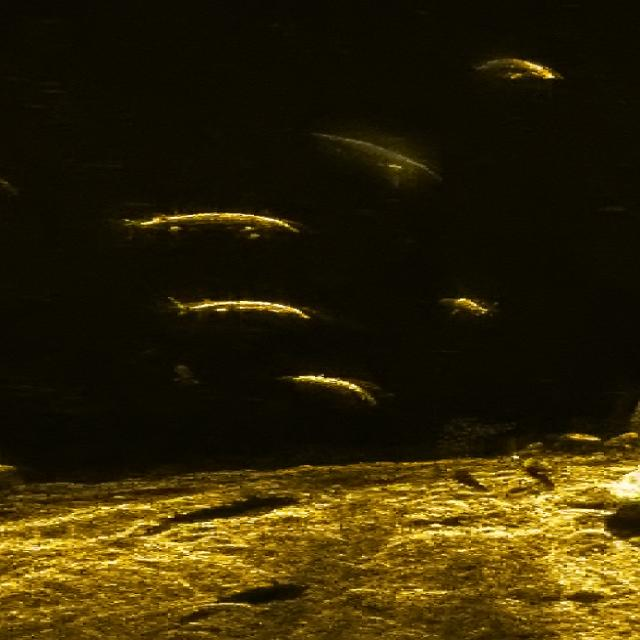fish: (312, 122, 442, 194), (119, 202, 300, 242), (157, 293, 312, 328), (470, 46, 567, 87), (275, 372, 384, 404), (428, 291, 492, 320)
